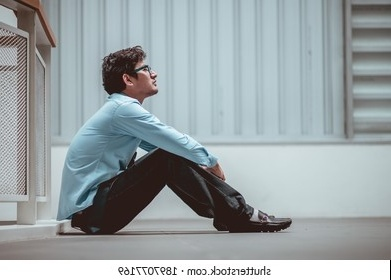not_fallen: (51, 39, 308, 244)
